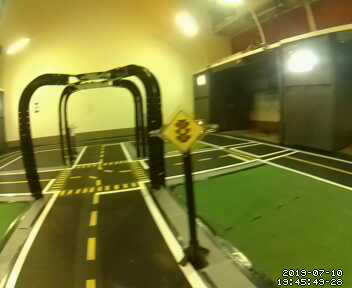Traffic light sign: (164, 112, 202, 152)
